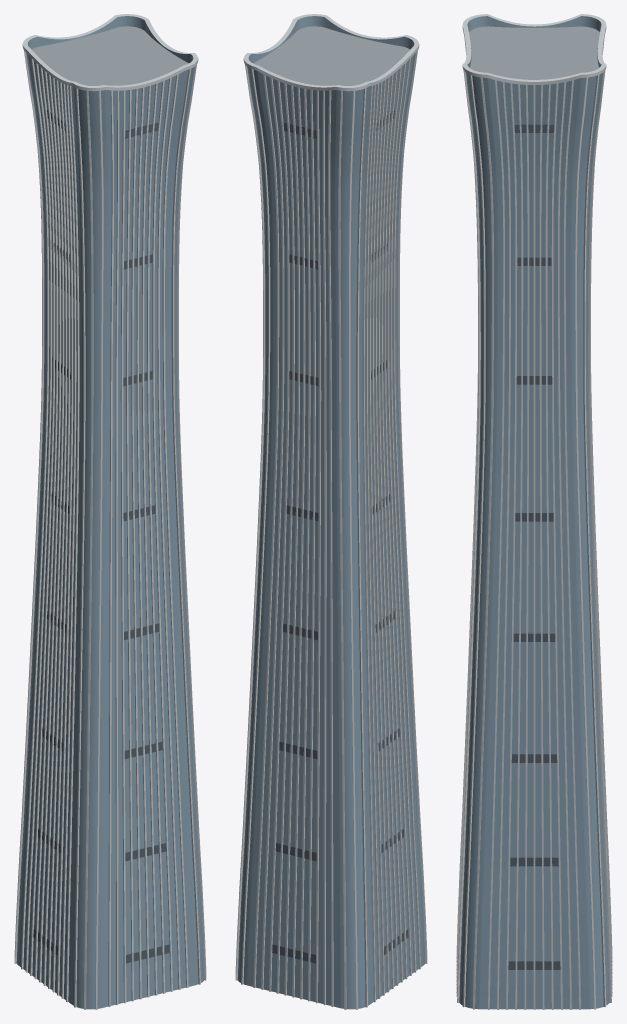
Rendered from beijing-citic-tower.detail.glb.
The picture shows the model from 3 angles, left to right: view 1: azimuth 30°, elevation 25°; view 2: azimuth 150°, elevation 25°; view 3: azimuth 270°, elevation 25°; orthographic projection.
Parts seen in each view (by area): view 1: CITIC Tower; view 2: CITIC Tower; view 3: CITIC Tower.
Part boxes in pixels (x1,y1,x2,y2): CITIC Tower: (14,14,206,1009); CITIC Tower: (235,14,427,1009); CITIC Tower: (456,14,612,1009).
Bounding box in the file's own units: 80 × 528 × 80.
